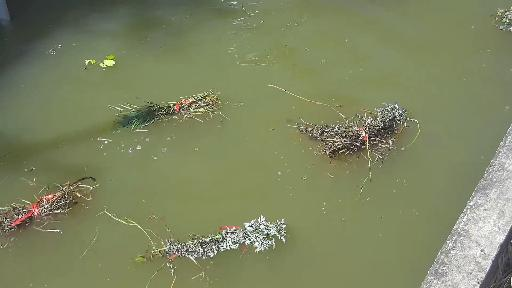leaf: (71, 51, 133, 74)
twig: (265, 75, 428, 198), (104, 203, 321, 266), (81, 77, 245, 150), (0, 169, 114, 234), (482, 8, 512, 33)
